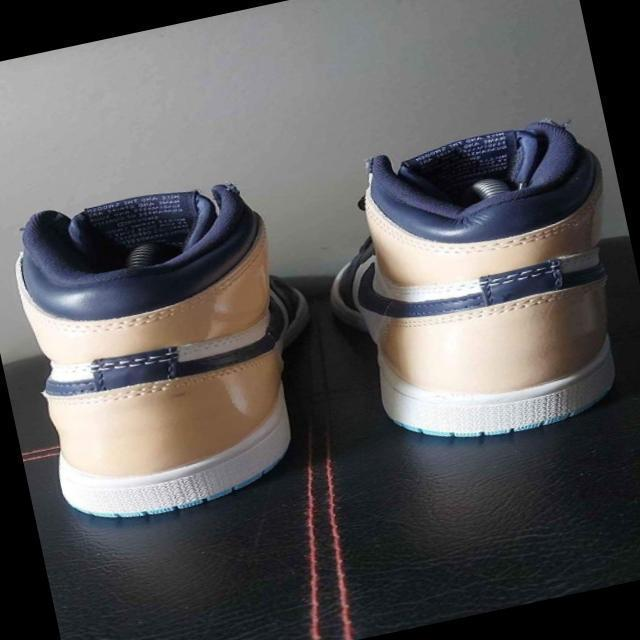nike fake jordan 1: (0, 157, 345, 535), (299, 98, 640, 464)
